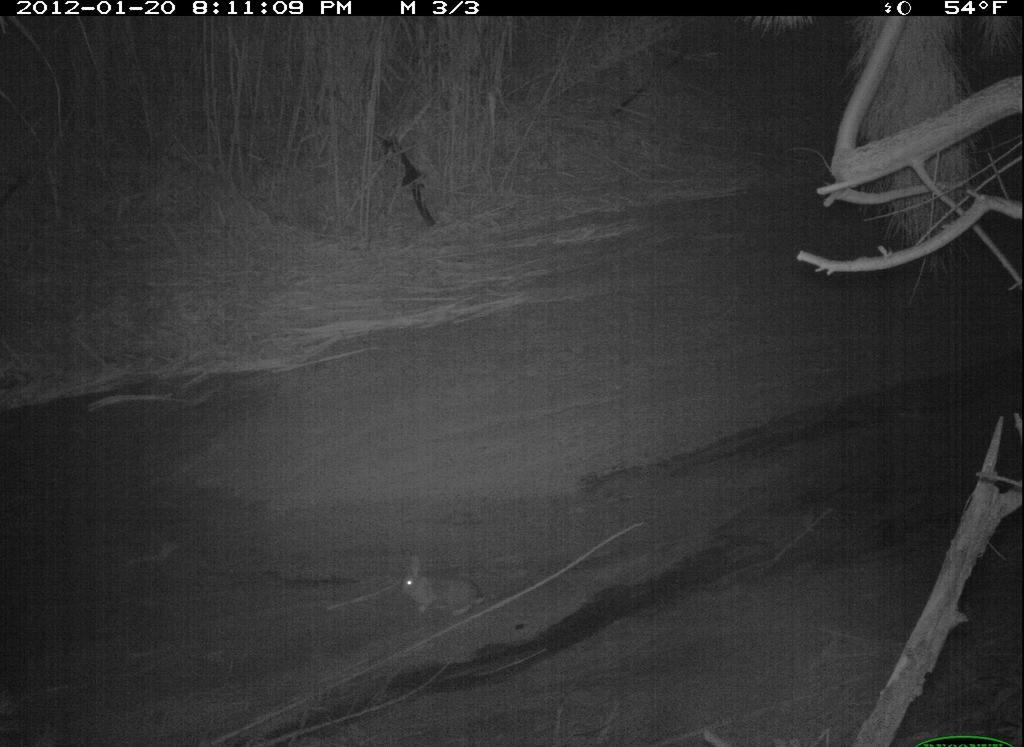rabbit: (391, 547, 493, 632)
